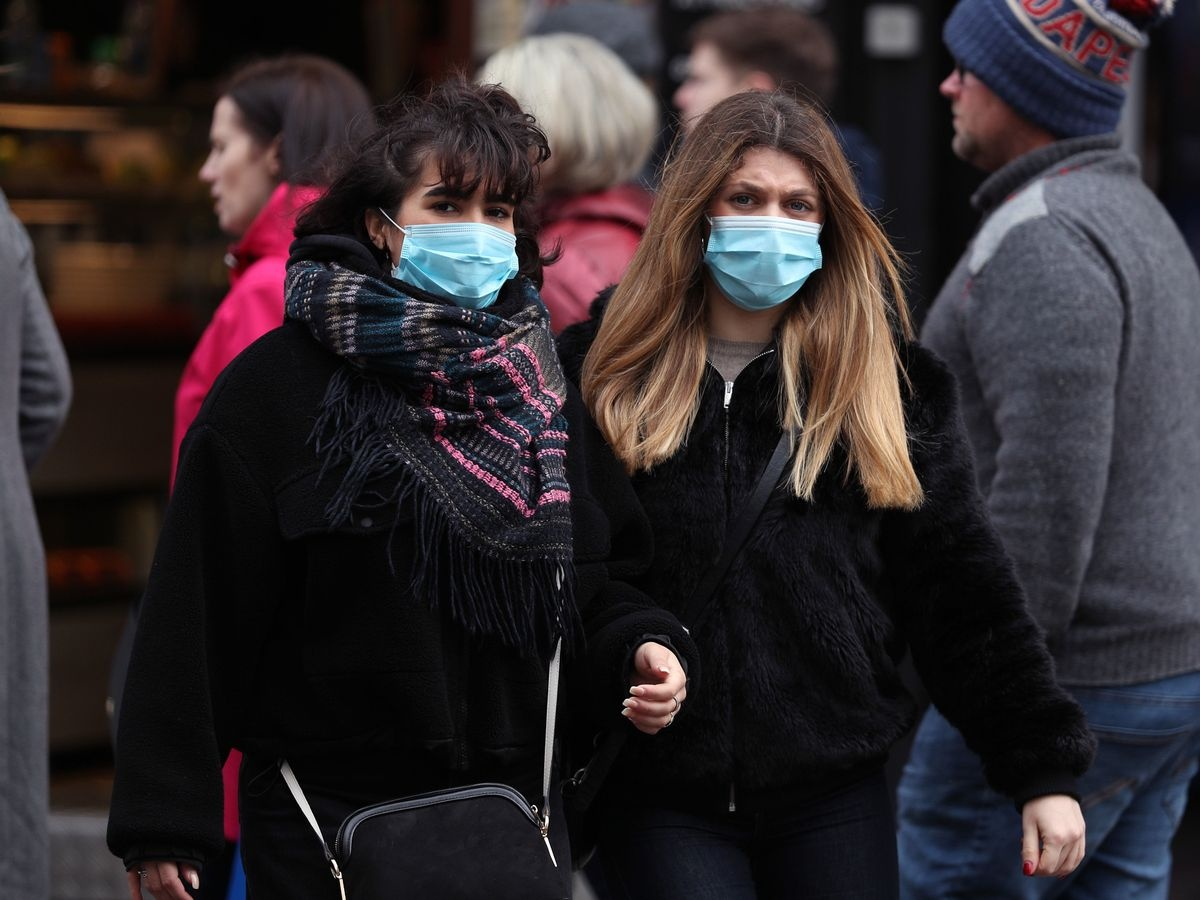with_mask: (382, 114, 539, 321), (697, 128, 839, 312)
